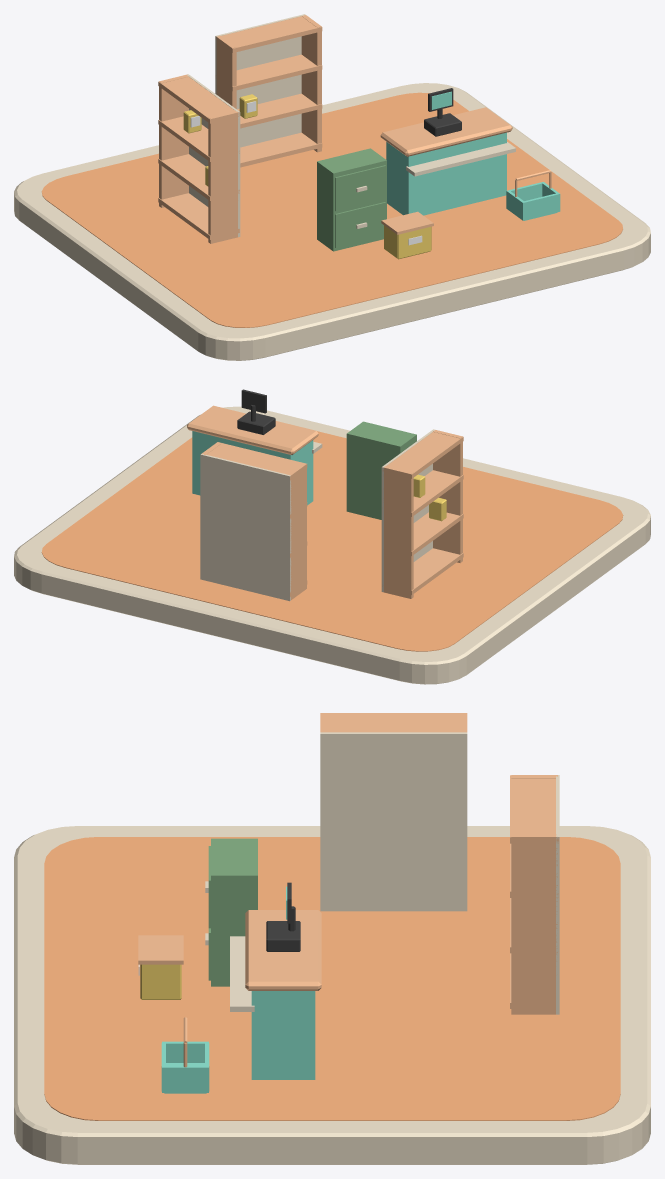
3 views of the same model, one above another, from view 1: azimuth 30°, elevation 25°; view 2: azimuth 150°, elevation 25°; view 3: azimuth 270°, elevation 25° (orthographic). The views are drawn at different scales.
Parts seen in each view (by area): view 1: COM-02 Floor Surface, COM-01 Rounded Base Direct, Counter body, Cabinet, Back.001, Side.001, Countertop, Side, Side.003, Shelf.007, Shelf.006, Shelf.003 (+12 smaller); view 2: COM-02 Floor Surface, COM-01 Rounded Base Direct, Back.001, Cabinet, Side, Countertop, Side.002, Side.001, Counter body, Shelf.003, Shelf.007, Shelf (+5 smaller); view 3: COM-02 Floor Surface, COM-01 Rounded Base Direct, Back, Side.003, Counter body, Cabinet, Countertop, Shelf.007, Shelf.003, Box, Lid, Visitor shelf (+4 smaller).
Boxes of the visible parts, x1,y1,x2,y2 form: COM-02 Floor Surface: (41,92,622,327); COM-01 Rounded Base Direct: (14,83,650,360); Counter body: (386,132,506,215); Cabinet: (317,148,386,251); Back.001: (215,14,305,147); Side.001: (208,110,238,243); Countertop: (380,107,512,156); Side: (159,74,188,207); Side.003: (301,15,321,152); Shelf.007: (215,16,322,52); Shelf.006: (215,54,322,91); Shelf.003: (158,77,239,123); COM-02 Floor Surface: (41,431,623,651); COM-01 Rounded Base Direct: (14,406,650,684); Back.001: (200,454,291,601); Cabinet: (346,421,416,519); Side: (384,465,413,598); Countertop: (187,405,318,454); Side.002: (287,463,306,600); Side.001: (433,430,462,562); Counter body: (192,431,313,505); Shelf.003: (382,432,463,478); Shelf.007: (206,442,307,480); Shelf: (382,548,463,594); COM-02 Floor Surface: (44,837,620,1120); COM-01 Rounded Base Direct: (14,826,650,1164); Back: (320,732,467,911); Side.003: (511,834,557,1014); Counter body: (251,991,315,1079); Cabinet: (205,838,257,986); Countertop: (245,910,321,990); Shelf.007: (510,775,558,843); Shelf.003: (320,713,466,732); Box: (140,964,181,999); Lid: (138,935,183,964); Visitor shelf: (230,936,254,1011).
Bounding box in the file's own units: 6 × 1.9 × 5.2.
Materials: 1 (1 with a texture image).
